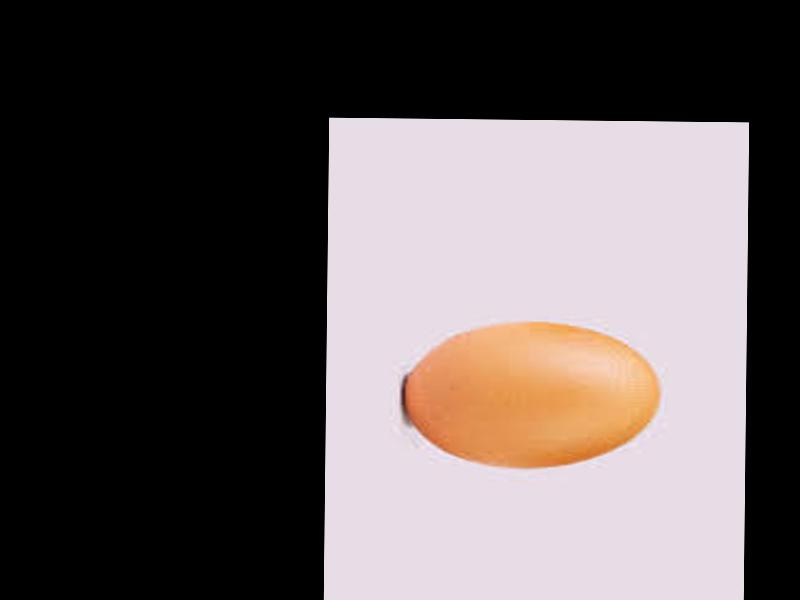Eggs: (401, 322, 664, 468)
